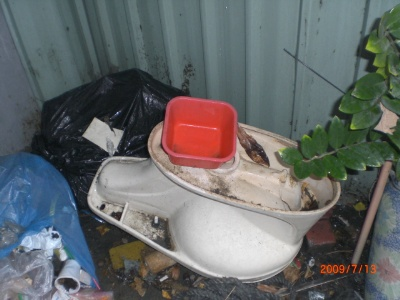bottle: (55, 260, 80, 295)
box: (161, 95, 239, 169)
plastic_bag: (1, 150, 94, 290), (39, 66, 162, 158)
toilet: (87, 120, 341, 283)
